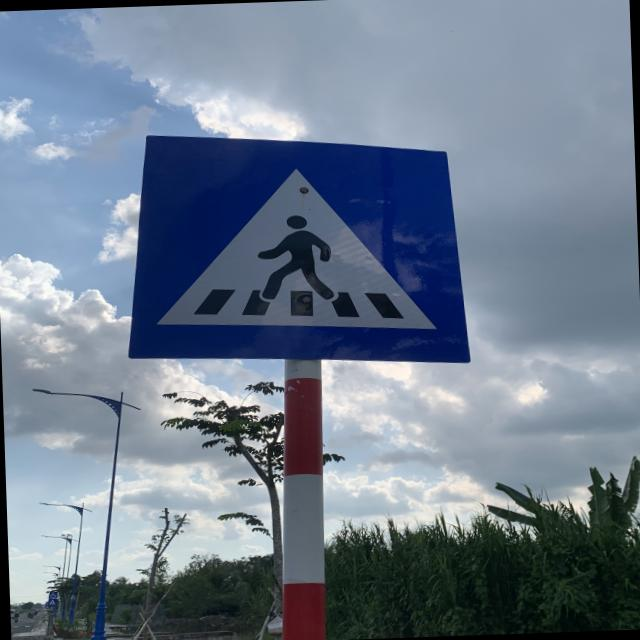Giao_Nhau_Duong_Uu_Tien: (119, 121, 469, 372)
